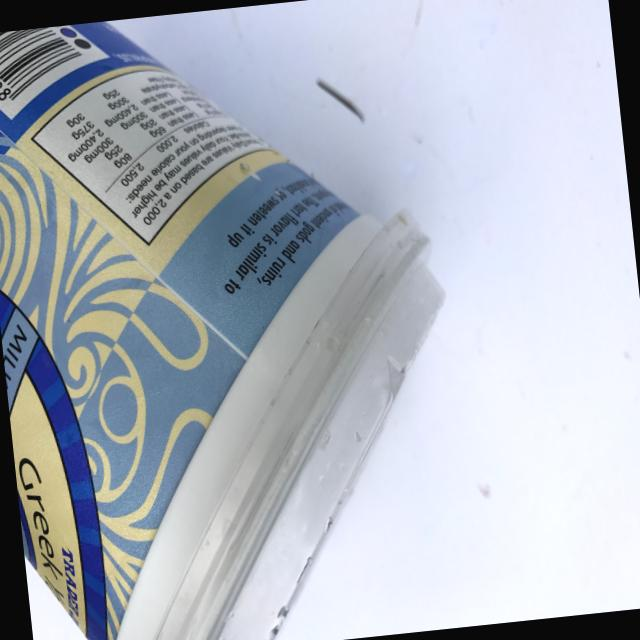Plastic: (0, 0, 488, 640)
